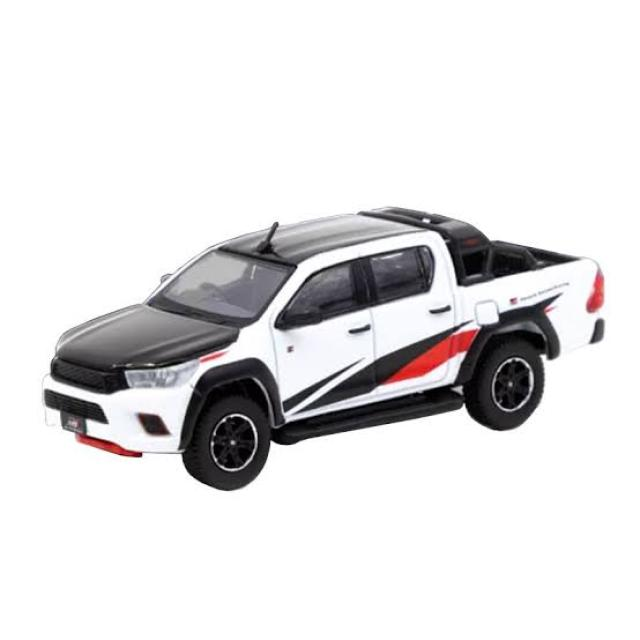Car: (41, 204, 606, 491)
